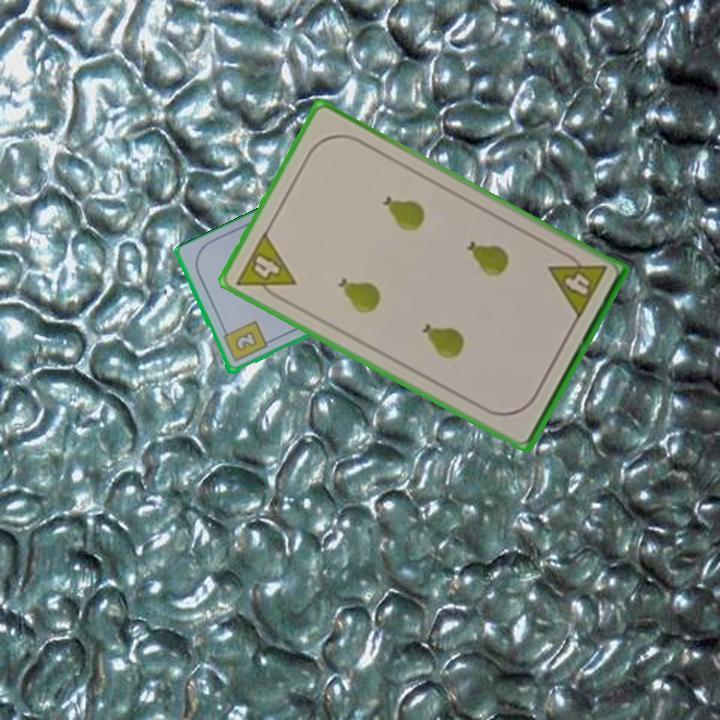2b: (219, 318, 270, 365)
4p: (231, 228, 299, 306), (545, 246, 609, 322)
